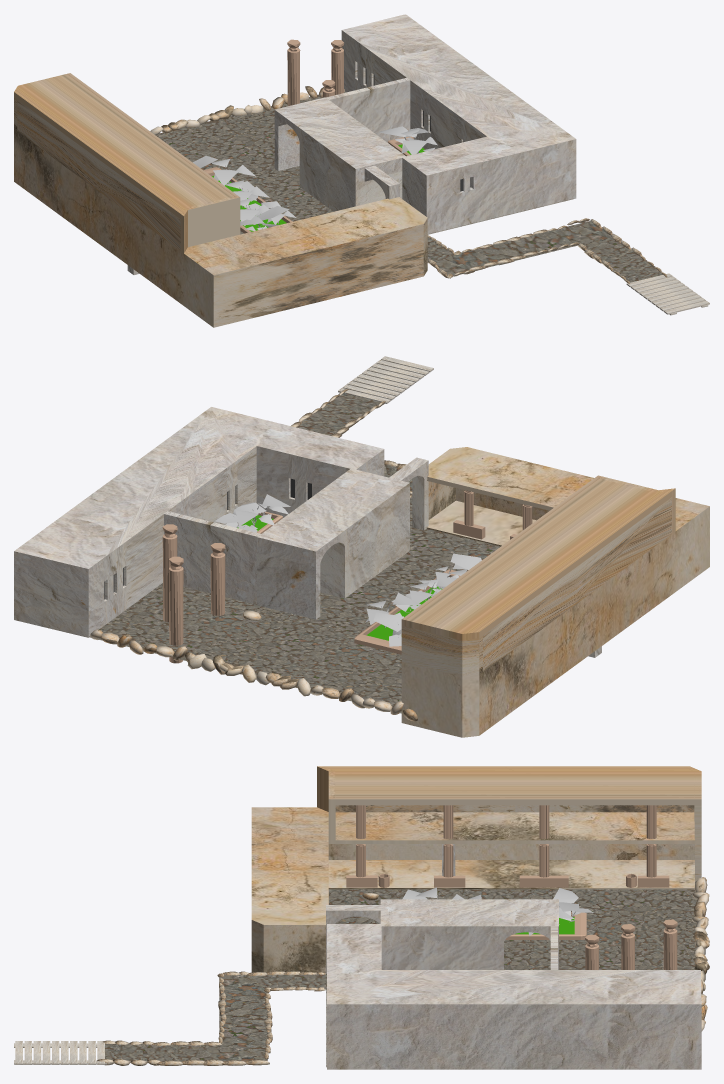
Rendered from place.gltf.
3 views of the same model, one above another, from view 1: azimuth 30°, elevation 25°; view 2: azimuth 150°, elevation 25°; view 3: azimuth 270°, elevation 25° (orthographic). The views are drawn at different scales.
Visible parts, largest first — view 1: стены, земля, камни, растения, мост, колонны1, газон; view 2: стены, земля, камни, растения, колонны1, мост, газон, колонны 4; view 3: стены, земля, камни, колонны 4, мост, колонны1, колонны 3, растения, газон.
Part boxes in pixels (x1,y1,x2,y2): стены: (14, 14, 576, 327); земля: (156, 91, 662, 282); камни: (150, 86, 667, 283); растения: (193, 126, 437, 230); мост: (626, 273, 709, 315); колонны1: (287, 39, 343, 106); газон: (203, 136, 424, 233); стены: (14, 407, 709, 737); земля: (89, 393, 500, 713); камни: (90, 389, 417, 721); растения: (215, 494, 481, 646); колонны1: (162, 524, 225, 663); мост: (338, 356, 433, 404); газон: (237, 512, 460, 654); колонны 4: (453, 490, 532, 539); стены: (251, 766, 701, 1069); земля: (105, 889, 697, 1067); камни: (97, 877, 709, 1065); колонны 4: (346, 844, 669, 887); мост: (14, 1041, 106, 1064); колонны1: (585, 919, 677, 969); колонны 3: (356, 805, 656, 838); растения: (402, 887, 593, 936); газон: (505, 912, 586, 939).
Bounding box in the file's own units: 92.39 × 24.74 × 128.
